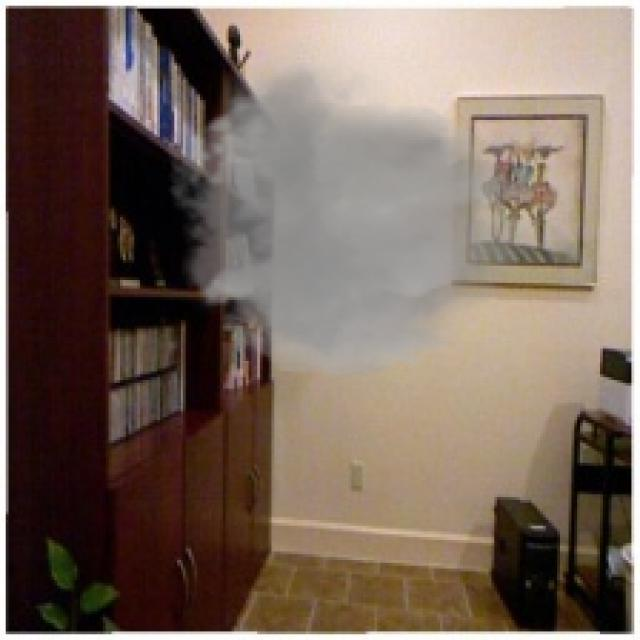smoke: (152, 37, 552, 386)
